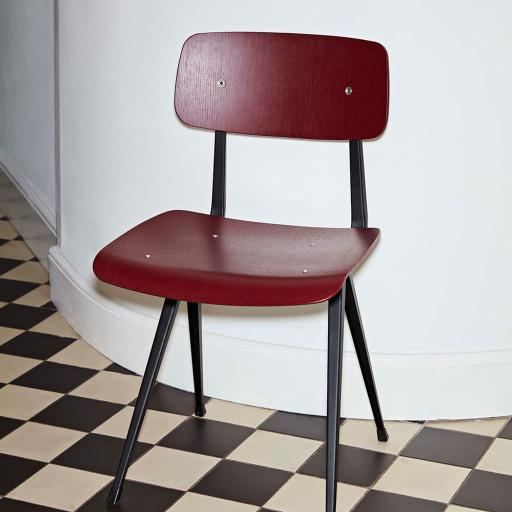chair: (82, 10, 398, 512)
